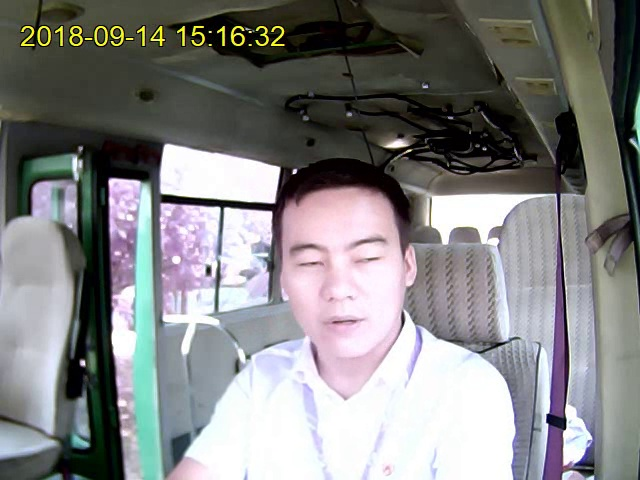closed_mouth: (321, 313, 370, 334)
